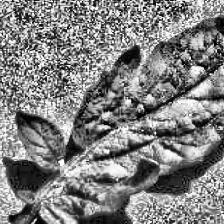leaf mold: (73, 6, 224, 199)
